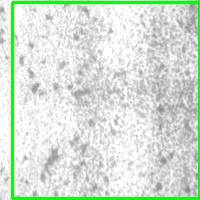pitted_surface: (12, 2, 199, 198)
